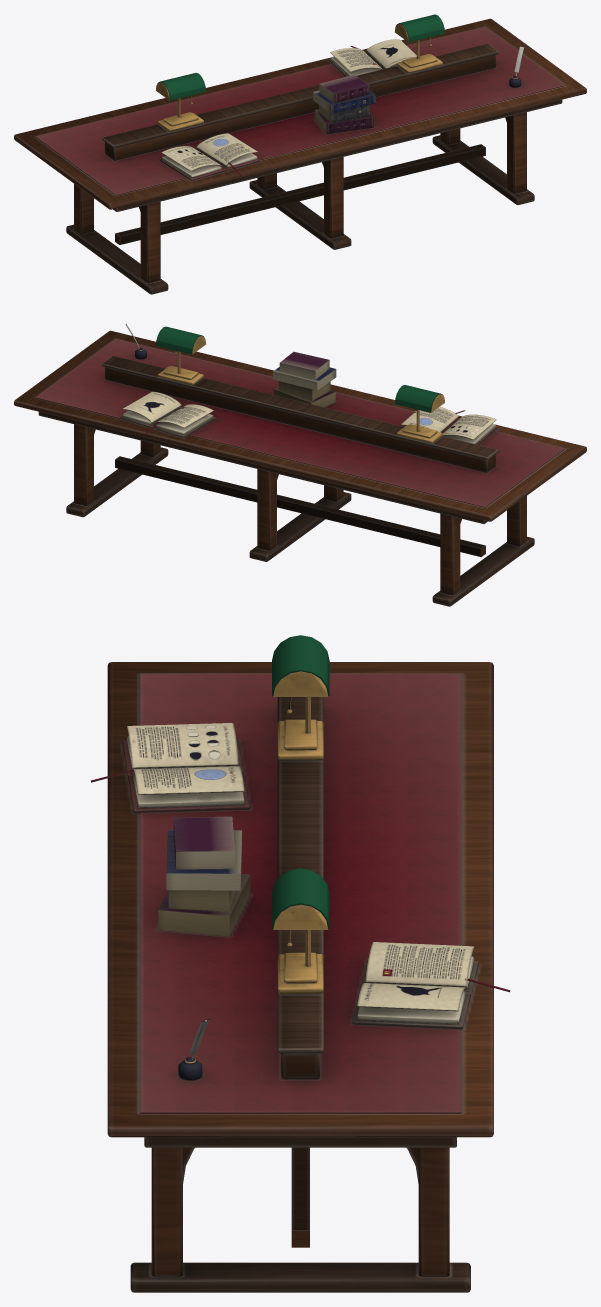
File: ReadingTableLong.fbx
3 renders of one model, top to bottom at view 1: azimuth 30°, elevation 25°; view 2: azimuth 150°, elevation 25°; view 3: azimuth 270°, elevation 25°, orthographic. The views are drawn at different scales.
Parts seen in each view (by area): view 1: ReadingTableLong_Main; view 2: ReadingTableLong_Main; view 3: ReadingTableLong_Main.
Boxes of the visible parts, left/top/right/bottom form: ReadingTableLong_Main: left=14, top=14, right=586, bottom=294; ReadingTableLong_Main: left=14, top=323, right=586, bottom=606; ReadingTableLong_Main: left=91, top=635, right=509, bottom=1292.
Size of the model in its own units: 1200 by 405 by 456.
